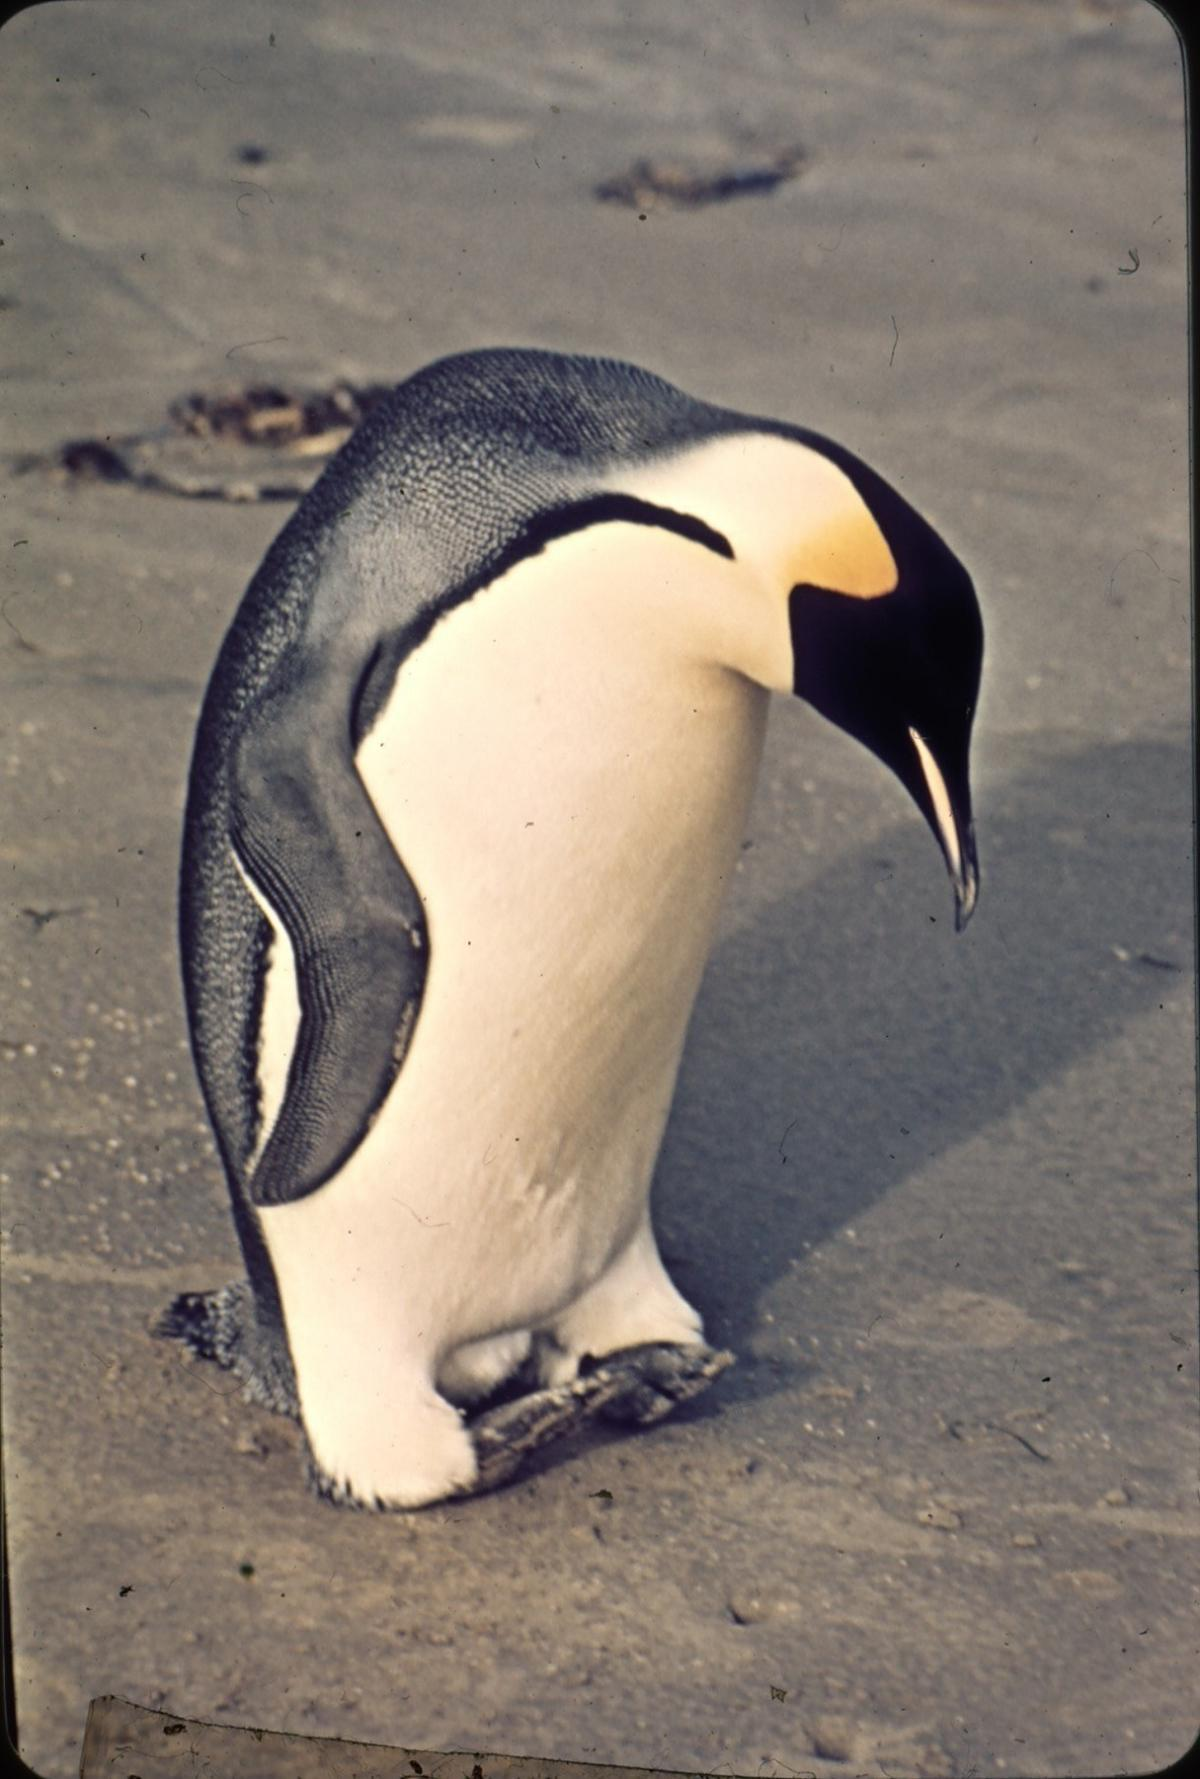emporer: (147, 280, 1045, 1550)
